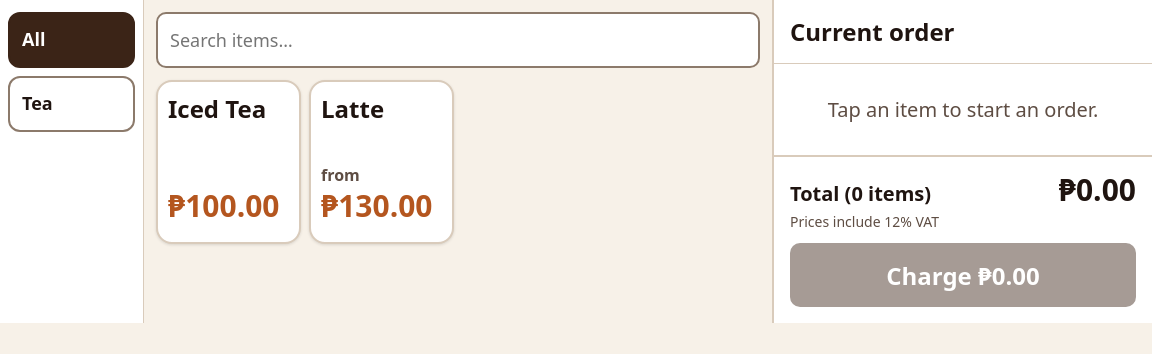
Test: PosPage › changes quantity, removes lines and clears the cart
Click the button "Iced Tea ₱100.00" at (228, 162), box [156,80,301,244]
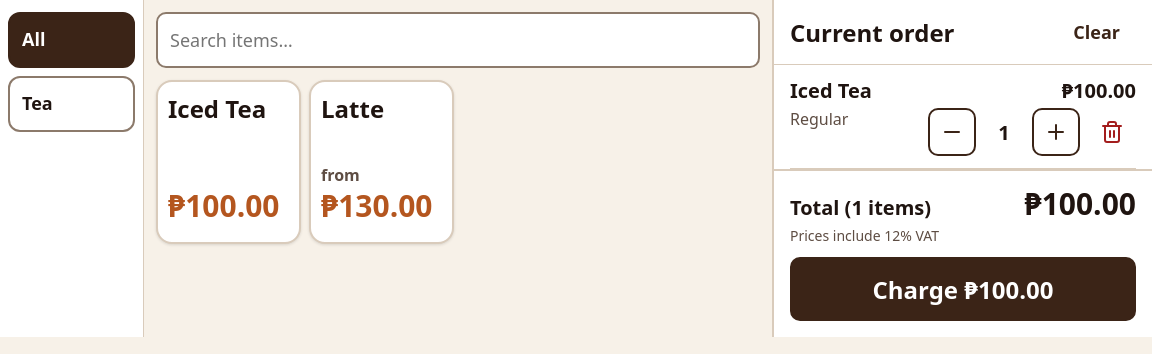
Click the button named "Increase Iced Tea" at (1056, 132), box [1032,108,1080,156]
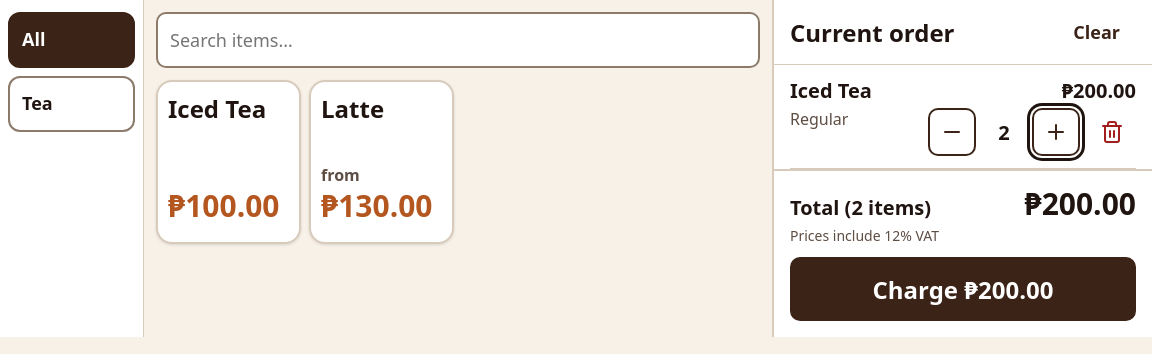
Now the button "Charge ₱200.00" is shown, box [790,257,1136,321]
Click the button named "Decrease Iced Tea" at (952, 132), box [928,108,976,156]
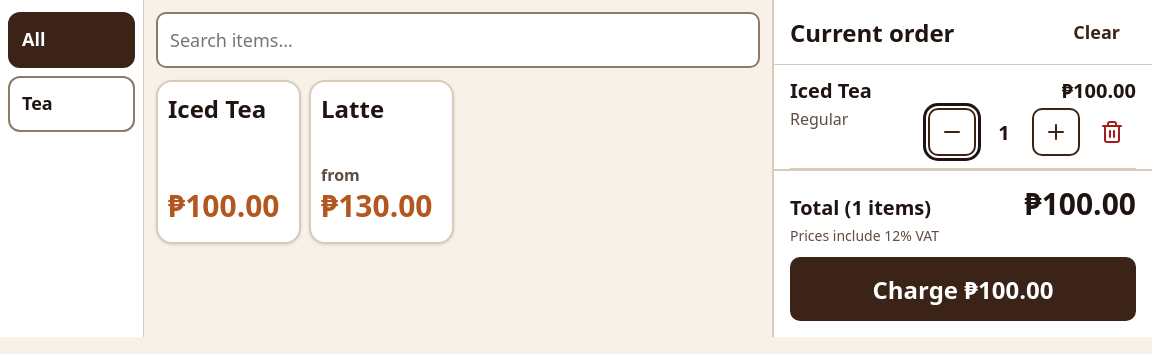
Click the button named "Decrease Iced Tea" at (952, 132), box [928,108,976,156]
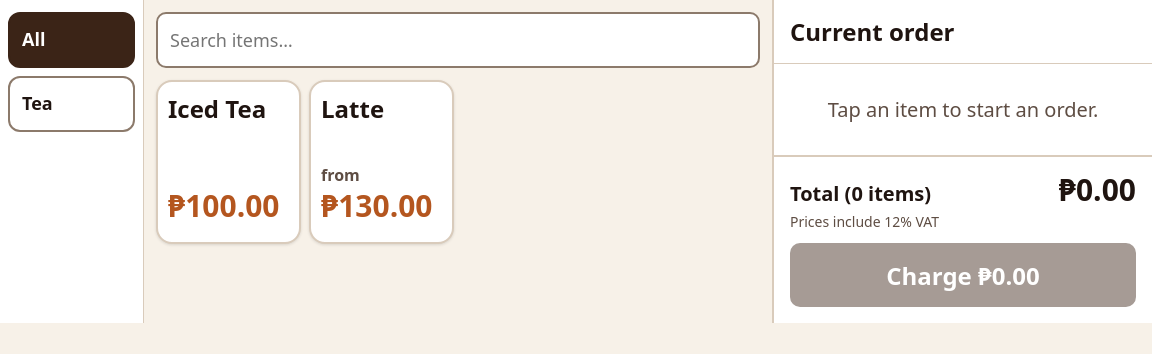
Now the text "Tap an item to start an order." is shown, box [828,96,1098,123]
Now the button "Charge ₱0.00" is disabled, box [790,243,1136,307]
